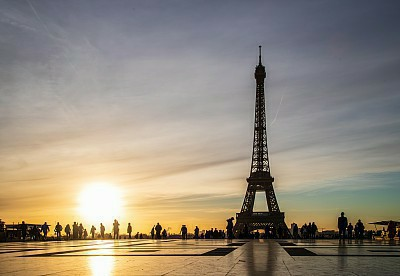Eiffel: (231, 45, 292, 237)
